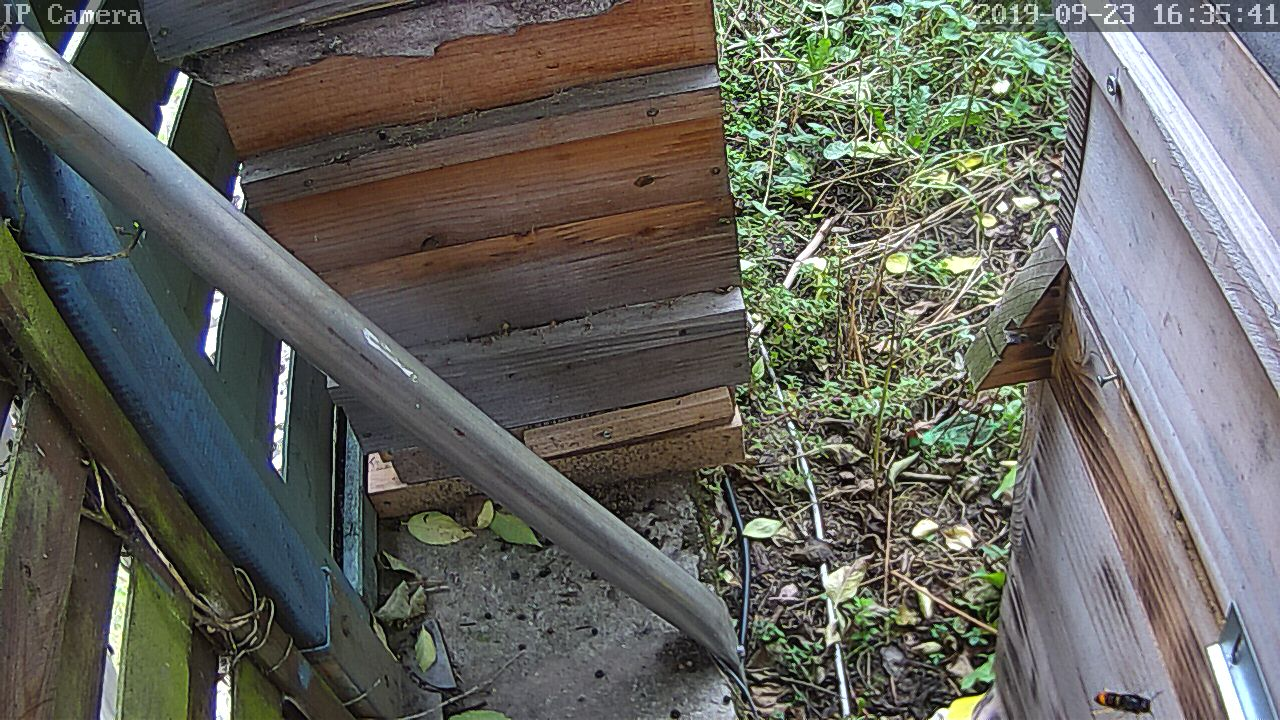hornet: (1089, 684, 1161, 720)
